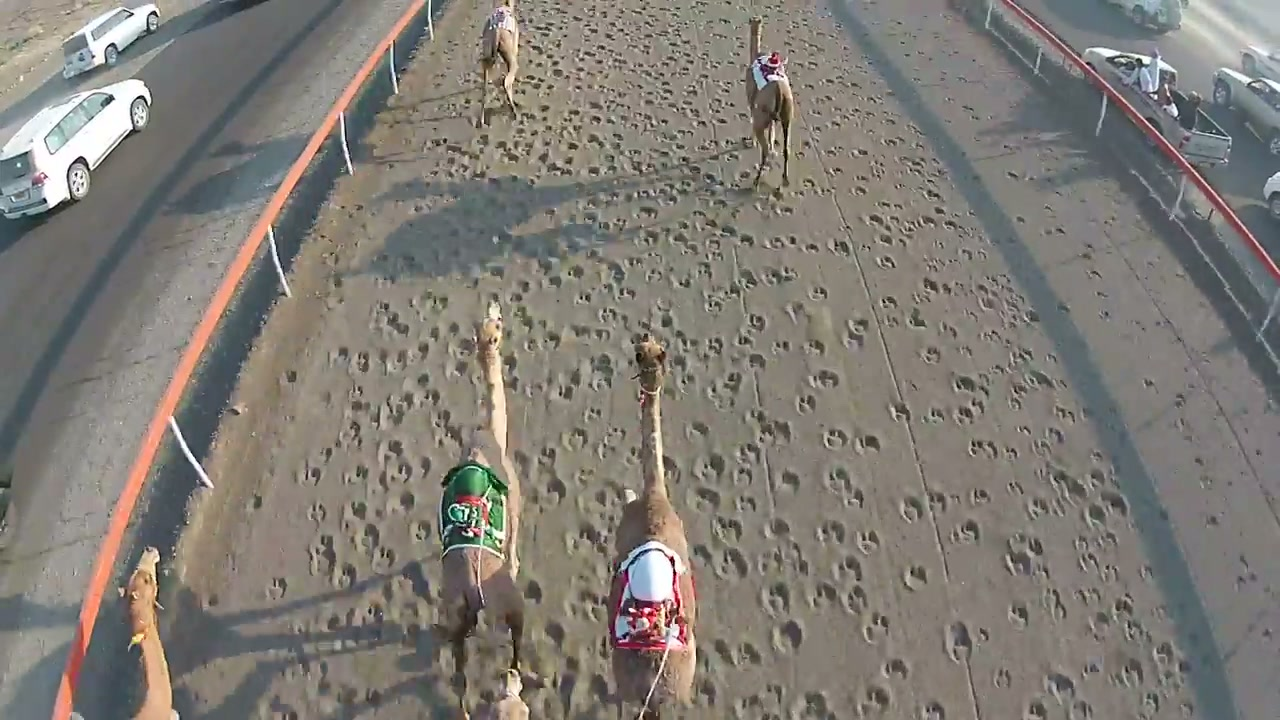animal_foot_print: (177, 0, 1246, 719)
